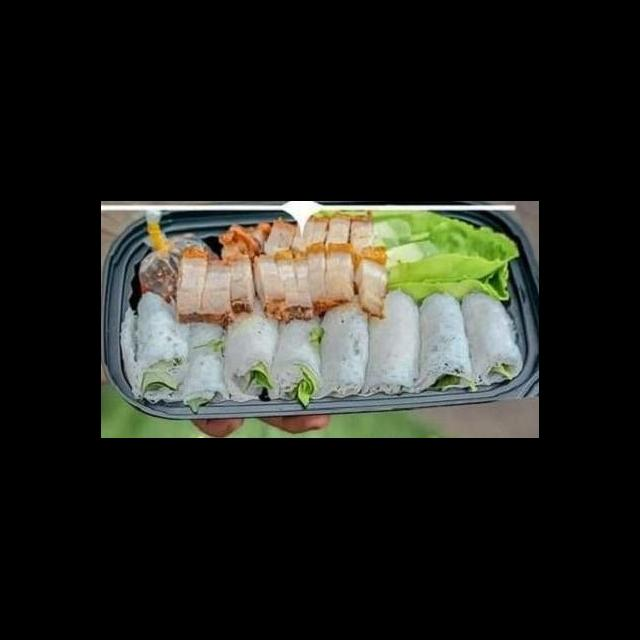banh hoi: (116, 289, 192, 412), (219, 292, 285, 408), (415, 288, 481, 398), (363, 286, 425, 402), (456, 288, 525, 390), (313, 290, 375, 402), (266, 304, 329, 412), (166, 312, 232, 411)
banh hoi heo quay: (111, 223, 527, 409)
thit heo quay: (247, 240, 394, 330), (211, 208, 378, 264), (172, 242, 260, 330)
